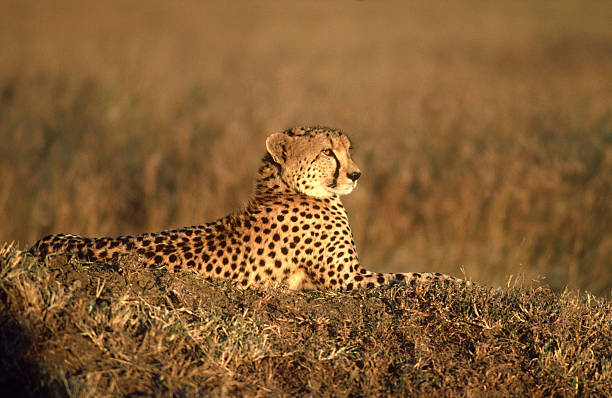cheetah: (251, 116, 368, 204)
